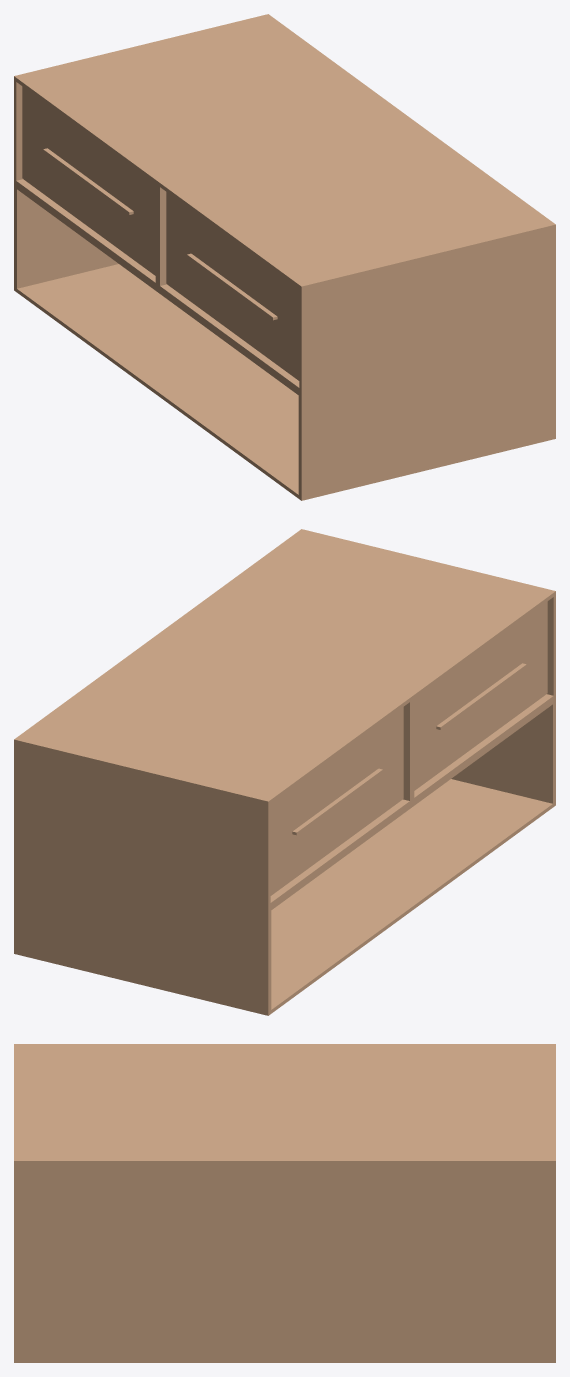
File: PetitMeubleTv.fbx
3 renders of one model, top to bottom at view 1: azimuth 30°, elevation 25°; view 2: azimuth 150°, elevation 25°; view 3: azimuth 270°, elevation 25°, orthographic. The views are drawn at different scales.
Parts seen in each view (by area): view 1: MeubleTv; view 2: MeubleTv; view 3: MeubleTv.
Boxes of the visible parts, box(x1,y1,x2,y2) form: MeubleTv: box(14, 14, 555, 500); MeubleTv: box(14, 529, 555, 1015); MeubleTv: box(14, 1044, 555, 1362).
Bounding box in the file's own units: 40.69 × 32.75 × 79.65.
